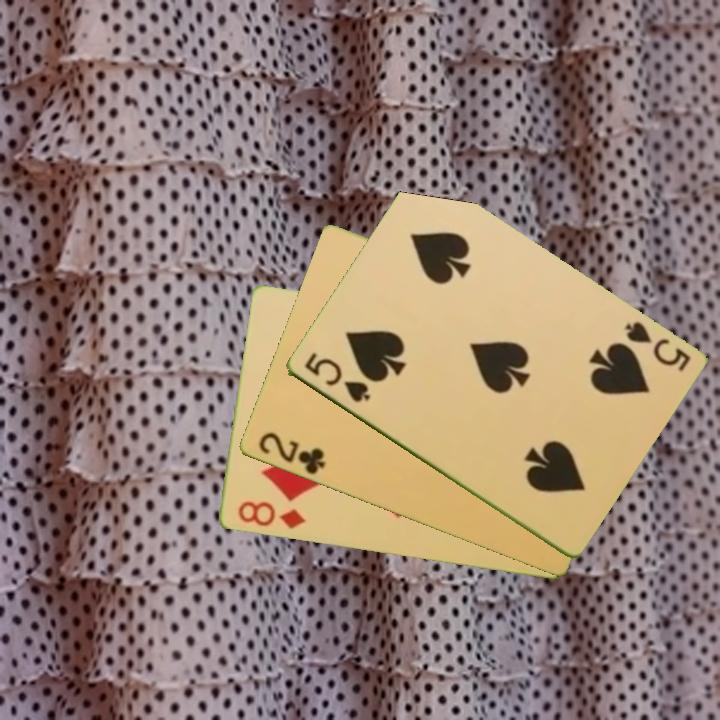2c: (254, 428, 328, 478)
5s: (300, 349, 373, 406), (620, 318, 693, 375)
8d: (234, 498, 308, 532)
